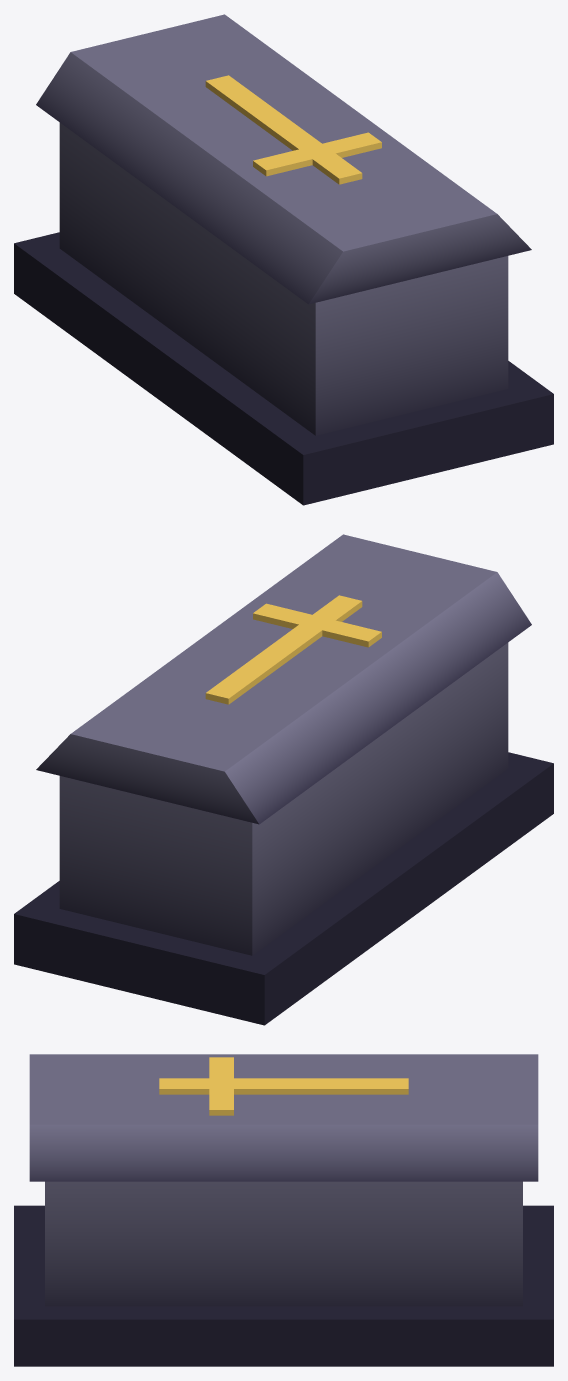
File: sarcophagus.glb
3 views of the same model, one above another, from view 1: azimuth 30°, elevation 25°; view 2: azimuth 150°, elevation 25°; view 3: azimuth 270°, elevation 25° (orthographic). The views are drawn at different scales.
Parts seen in each view (by area): view 1: sarcophagus; view 2: sarcophagus; view 3: sarcophagus.
Boxes of the visible parts, x1,y1,x2,y2 form: sarcophagus: [14, 14, 553, 505]; sarcophagus: [14, 534, 553, 1025]; sarcophagus: [14, 1054, 553, 1366].
Size of the model in its own units: 1.3 by 1.2 by 2.6.
